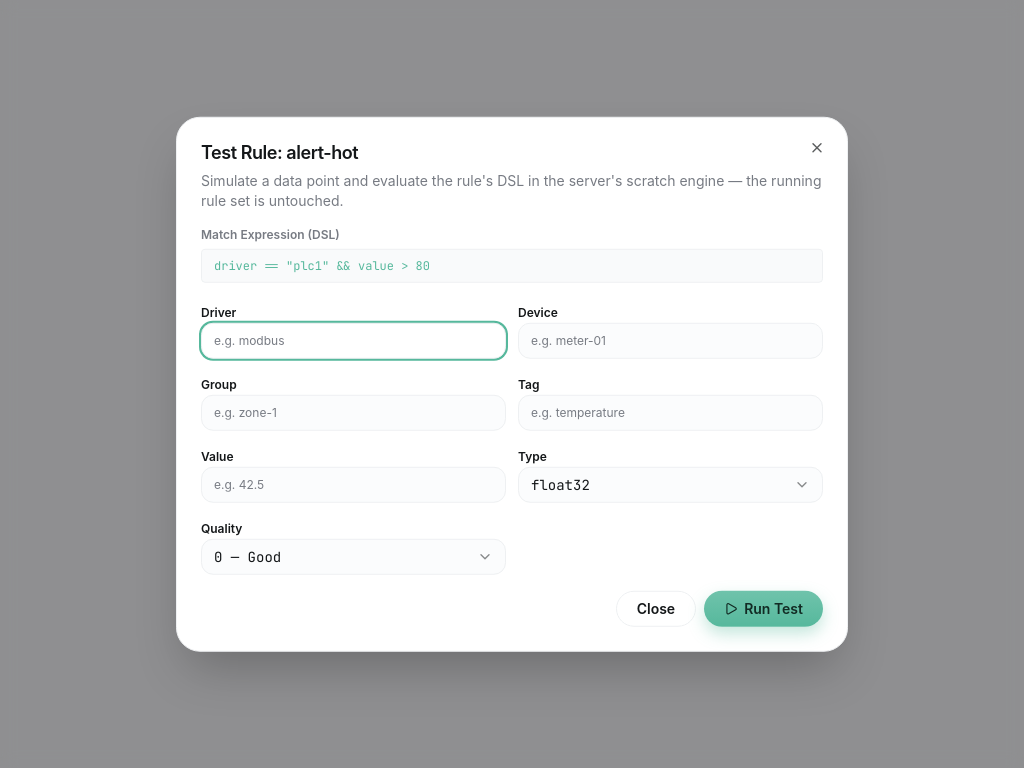
Test case: RuleTestDialog — server scratch engine › sends the sample point to POST /rules/preview and renders a hit
Expected: the heading "Test Rule: alert-hot" is shown, top-left (201, 142), bottom-right (358, 163)
What coordinates should you click on to do the following:
click the button "Run Test"
I would click on:
 (764, 608)
Its box is top-left (704, 590), bottom-right (823, 626).
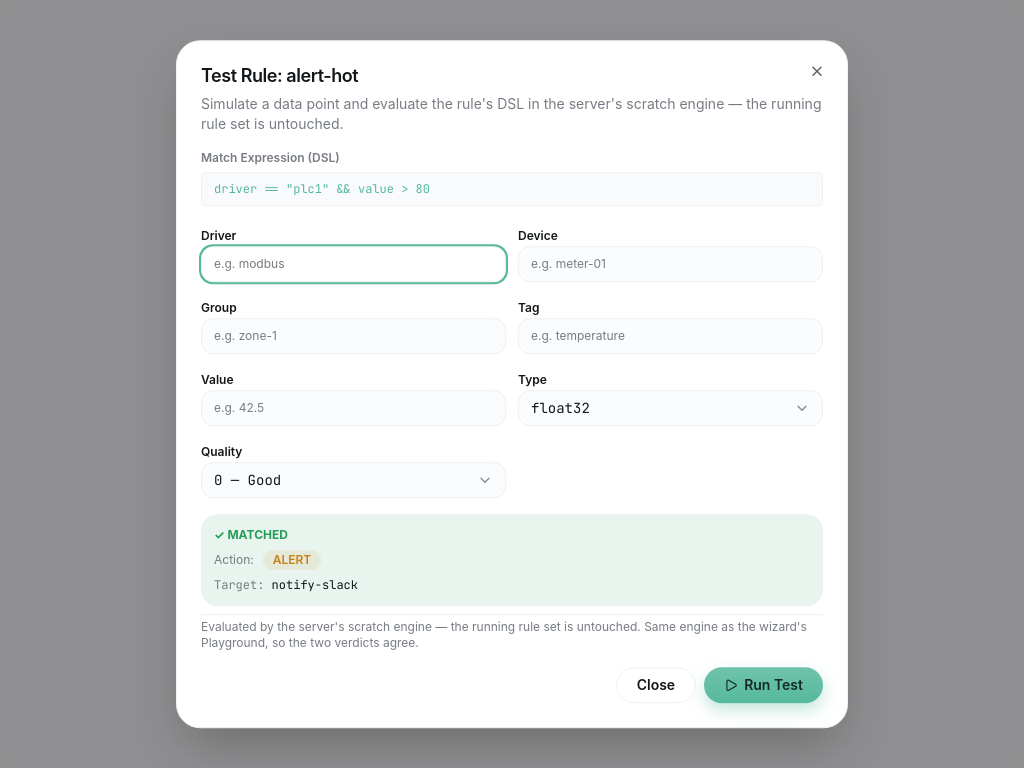
Now the text "✓ MATCHED" is shown, box top-left (214, 527), bottom-right (288, 542)
Now the text "ALERT" is shown, box top-left (262, 549), bottom-right (322, 571)
Now the text "Evaluated by the server's scratch engine" is shown, box top-left (201, 619), bottom-right (807, 650)
